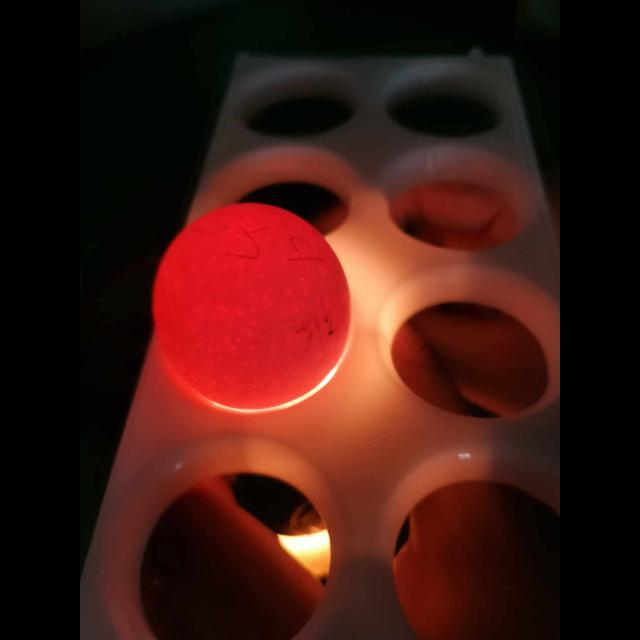Infertile: (156, 204, 344, 406)
